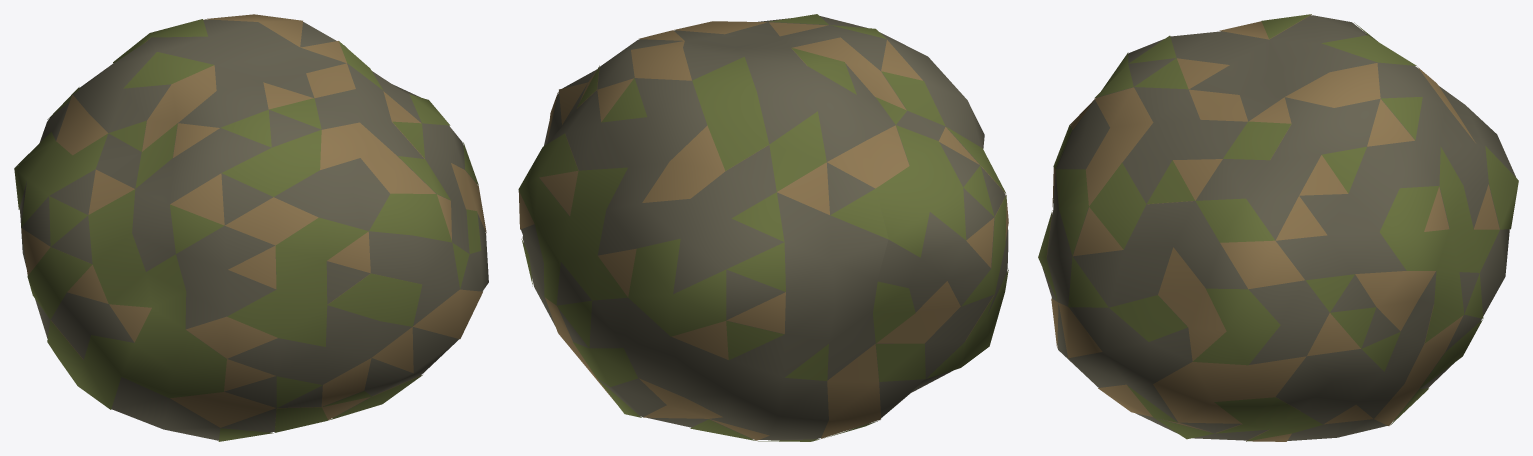
Rendered from ore_nickel_web.glb.
The picture shows the model from 3 angles, left to right: view 1: azimuth 30°, elevation 25°; view 2: azimuth 150°, elevation 25°; view 3: azimuth 270°, elevation 25°; orthographic projection. The views are drawn at different scales.
Parts seen in each view (by area): view 1: nickel_matrix, nickel_garnierite, nickel_limonite; view 2: nickel_matrix, nickel_garnierite, nickel_limonite; view 3: nickel_matrix, nickel_garnierite, nickel_limonite.
Boxes of the visible parts, <box> form: nickel_matrix: <box>19,19,488,440</box>; nickel_garnierite: <box>14,19,481,441</box>; nickel_limonite: <box>21,14,486,431</box>; nickel_matrix: <box>521,16,1008,440</box>; nickel_garnierite: <box>518,14,1008,441</box>; nickel_limonite: <box>518,21,1008,440</box>; nickel_matrix: <box>1042,15,1515,440</box>; nickel_garnierite: <box>1038,14,1518,441</box>; nickel_limonite: <box>1046,14,1499,441</box>.
Bounding box in the file's own units: 1.1 × 0.8793 × 1.03.
